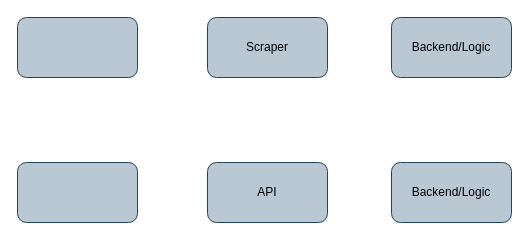
The diagram is 529 pixels wide and 240 high, and some of its shapes have lost their labels. The shapes that lost their labels are listed below. From the top down, each one's centre as x and y in pixels, then its label:
the point at 77,47: IILM
the point at 77,192: Frontend/Website
